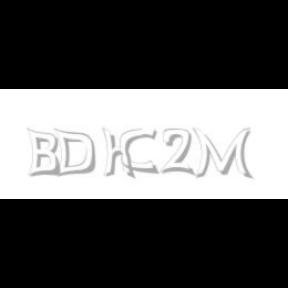2: (159, 128, 193, 176)
B: (26, 128, 60, 178)
C: (120, 128, 156, 174)
D: (52, 128, 96, 178)
M: (192, 128, 252, 180)
h: (102, 128, 138, 180)
